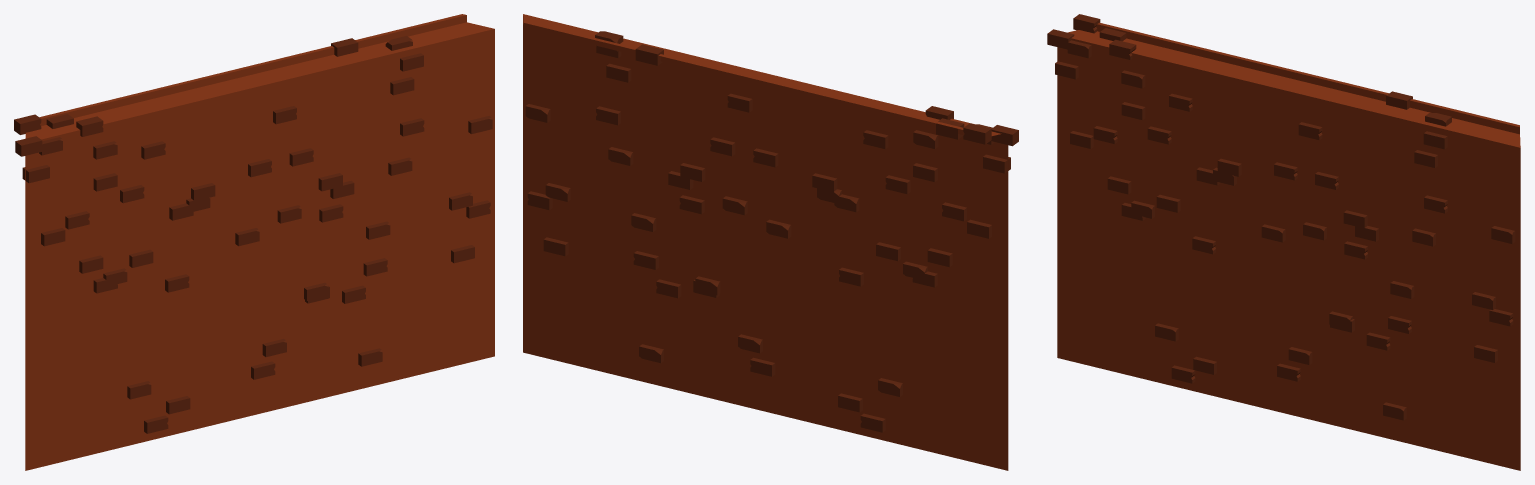
Rendered from WallDoor.fbx.
3 views of the same model, side by side, from view 1: azimuth 30°, elevation 25°; view 2: azimuth 150°, elevation 25°; view 3: azimuth 330°, elevation 25° (orthographic). The views are drawn at different scales.
Visible parts, largest first — view 1: WallDoor|Cube.017|Dupli|48; view 2: WallDoor|Cube.017|Dupli|48; view 3: WallDoor|Cube.017|Dupli|48.
Part boxes in pixels (box(x1,y1,x2,y2)): WallDoor|Cube.017|Dupli|48: box(14, 14, 494, 470); WallDoor|Cube.017|Dupli|48: box(523, 14, 1018, 470); WallDoor|Cube.017|Dupli|48: box(1047, 14, 1520, 470).
Bounding box in the file's own units: 609 × 412 × 44.04.
